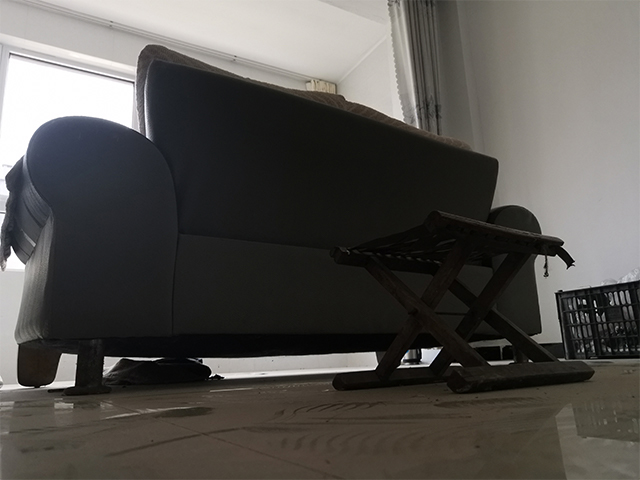sofa: (1, 40, 549, 395)
stool: (328, 207, 598, 395)
